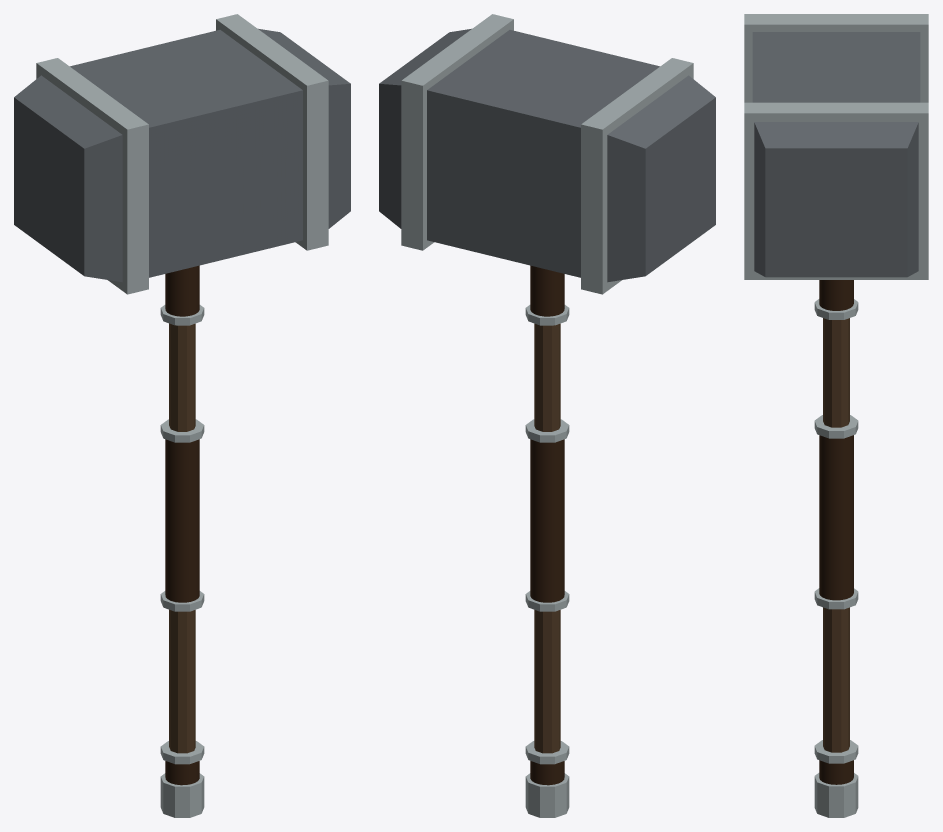
The picture shows the model from 3 angles, left to right: view 1: azimuth 30°, elevation 25°; view 2: azimuth 150°, elevation 25°; view 3: azimuth 270°, elevation 25°; orthographic projection.
Parts seen in each view (by area): view 1: SM_Hammer_01_LOD0; view 2: SM_Hammer_01_LOD0; view 3: SM_Hammer_01_LOD0.
Boxes of the visible parts, box(x1,y1,x2,y2) form: SM_Hammer_01_LOD0: box(14, 14, 350, 817); SM_Hammer_01_LOD0: box(379, 14, 715, 817); SM_Hammer_01_LOD0: box(744, 14, 928, 817).
Bounding box in the file's own units: 0.5343 × 1.41 × 0.3159.
